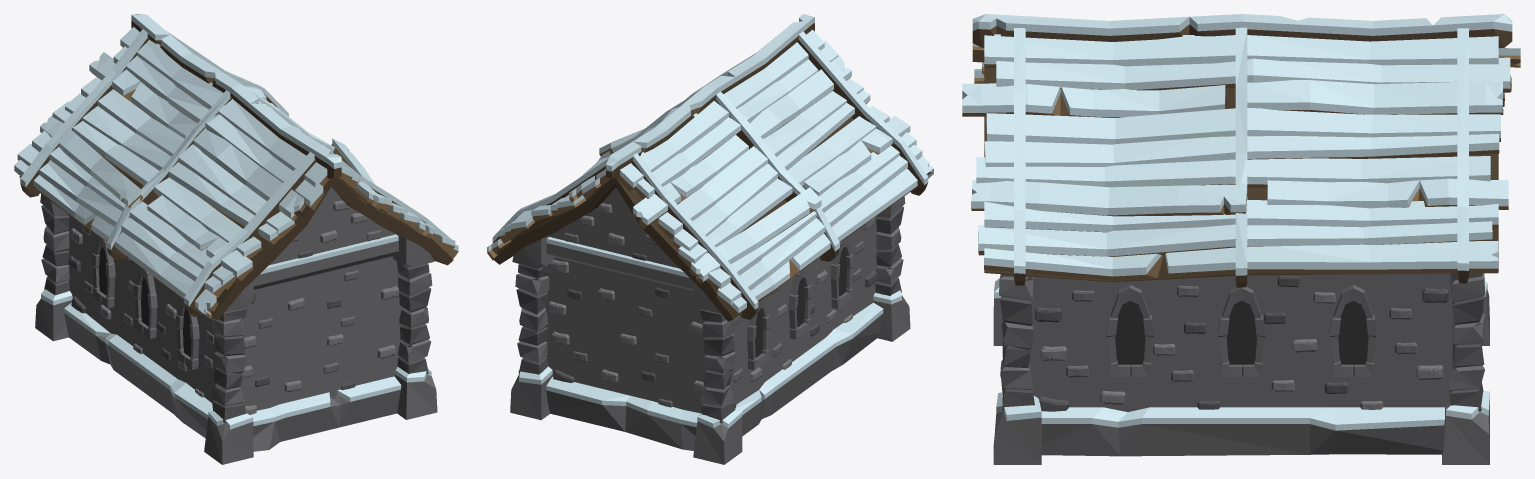
Rendered from SM_Bld_Church_Room_01_Snow.gltf.
The picture shows the model from 3 angles, left to right: view 1: azimuth 30°, elevation 25°; view 2: azimuth 150°, elevation 25°; view 3: azimuth 270°, elevation 25°; orthographic projection. The views are drawn at different scales.
Parts seen in each view (by area): view 1: SM_Bld_Church_Room_01_Snow; view 2: SM_Bld_Church_Room_01_Snow; view 3: SM_Bld_Church_Room_01_Snow.
Part boxes in pixels (box(x1,y1,x2,y2)): SM_Bld_Church_Room_01_Snow: box(14, 14, 458, 464); SM_Bld_Church_Room_01_Snow: box(487, 14, 933, 464); SM_Bld_Church_Room_01_Snow: box(962, 14, 1520, 464).
Bounding box in the file's own units: 6.42 × 6.53 × 8.75.
1 material, 1 textured.
